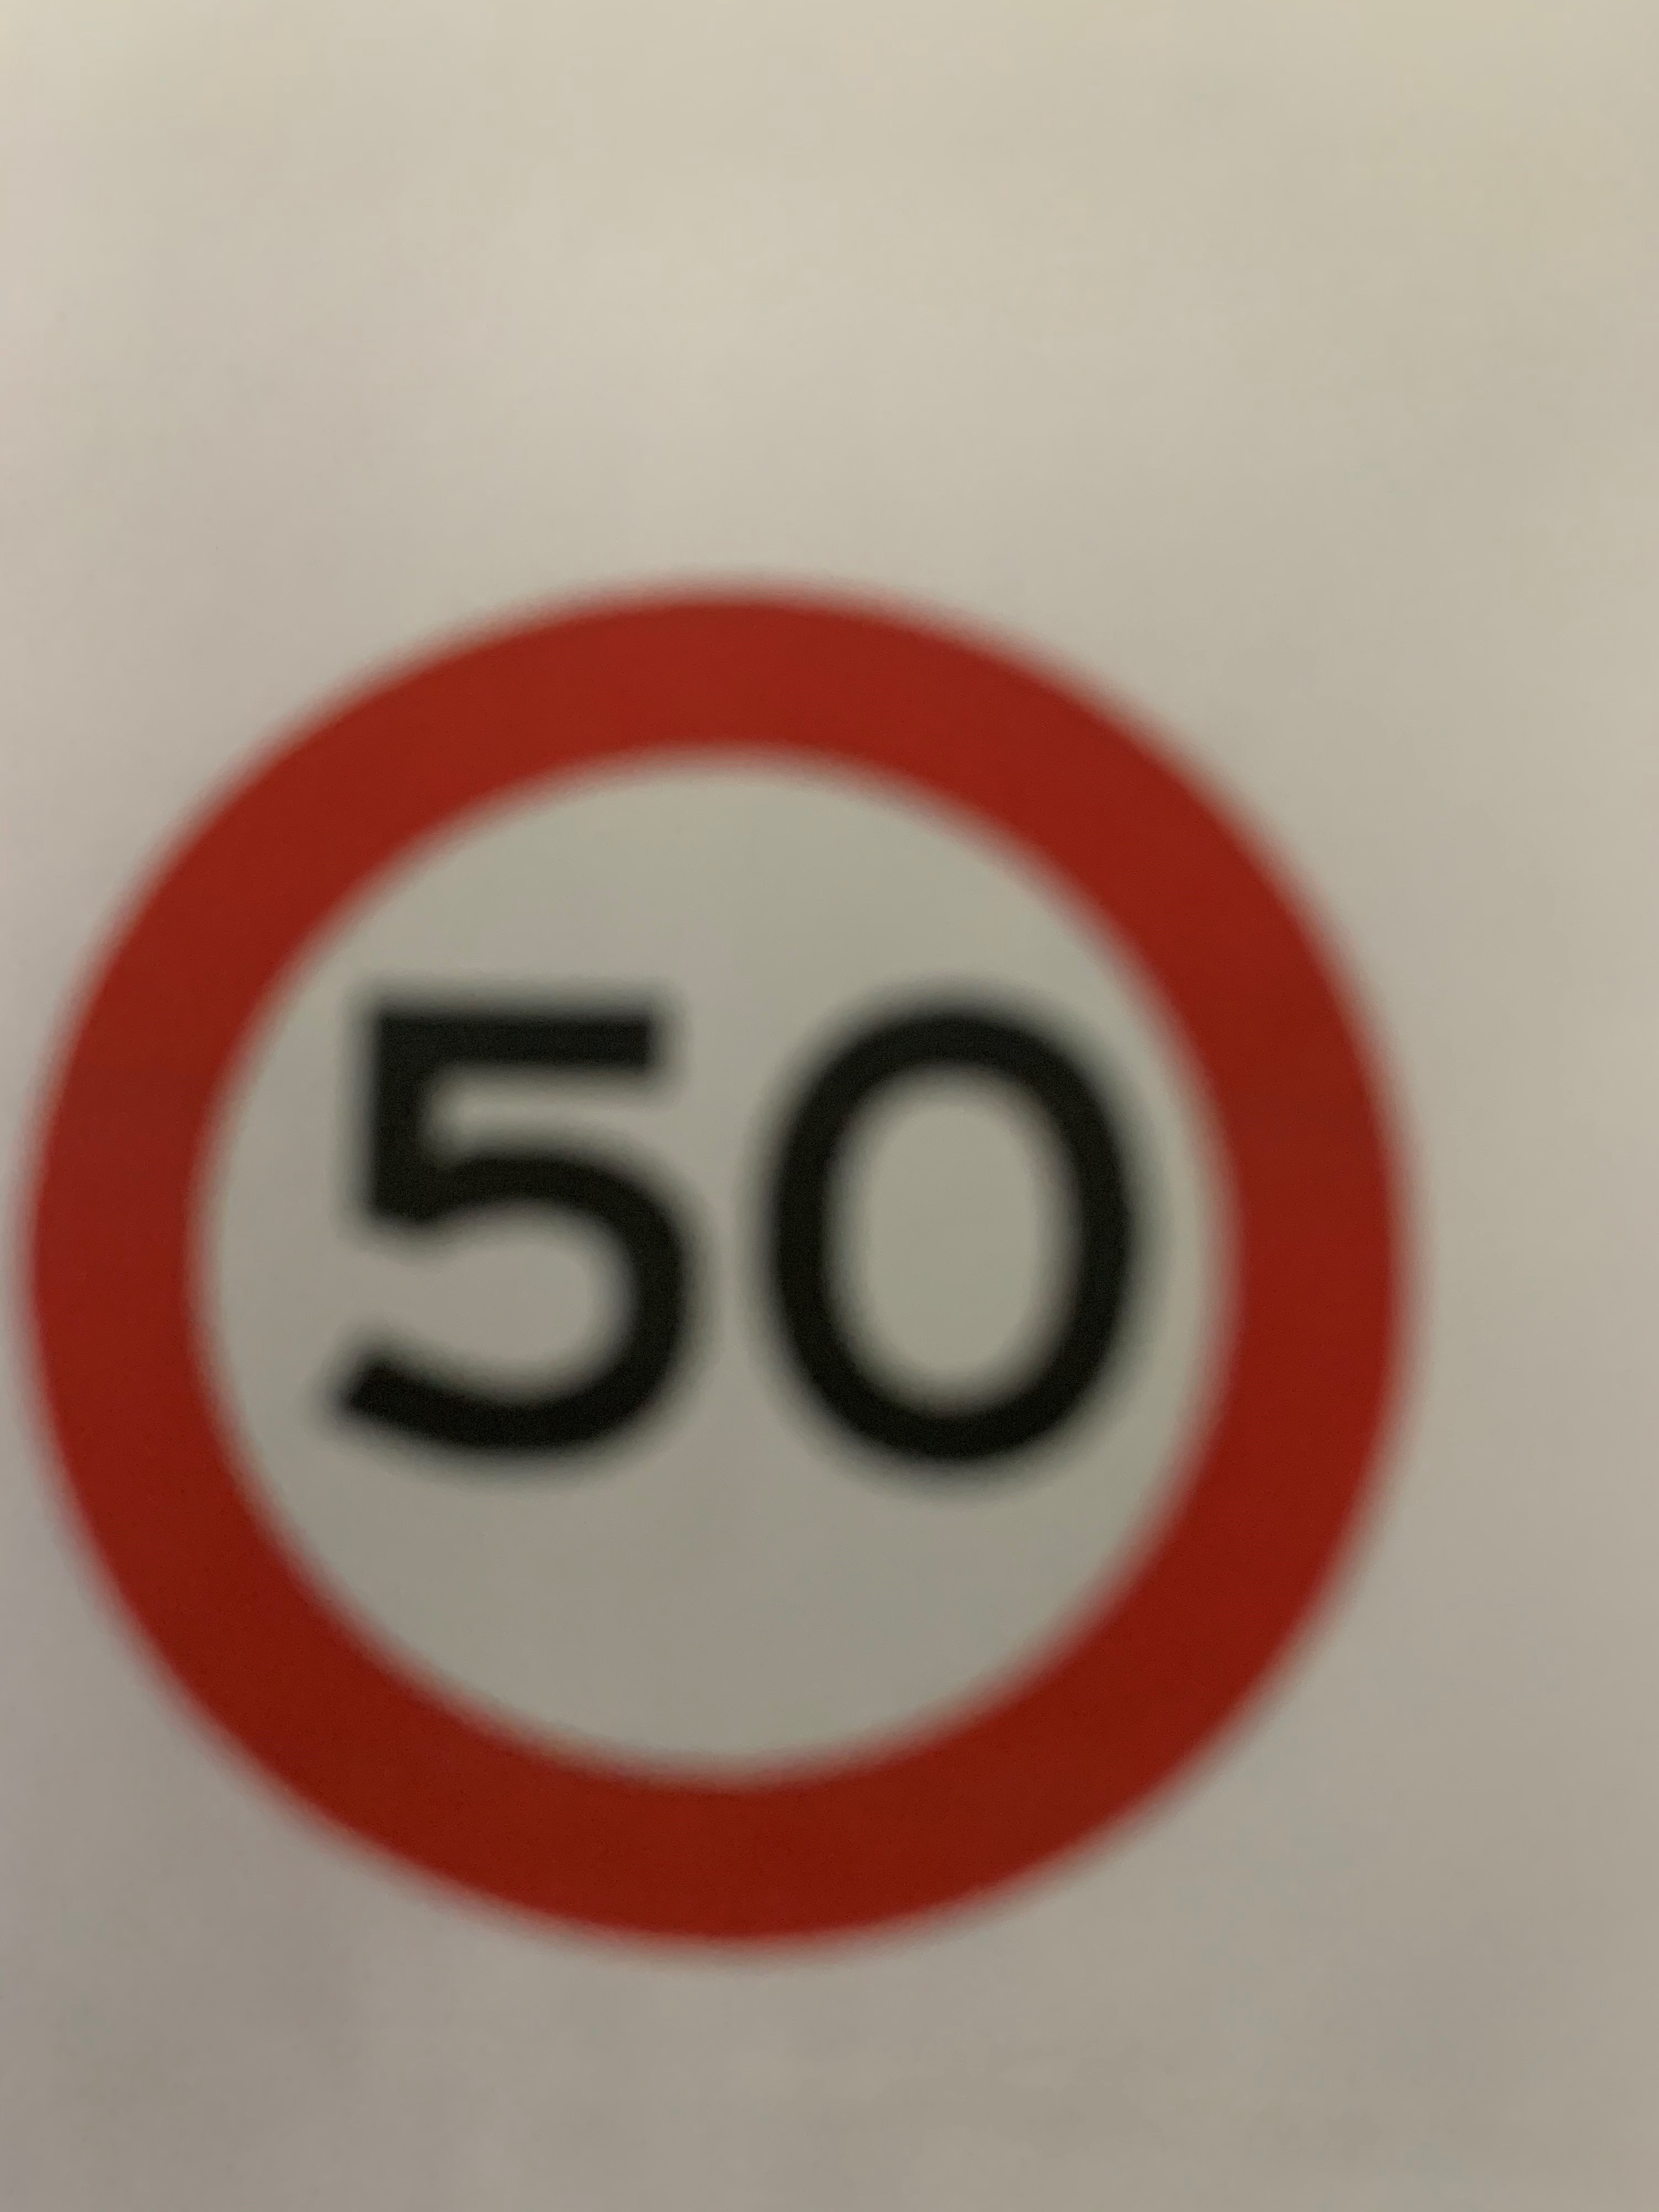50-limit: (26, 577, 1441, 1982)
